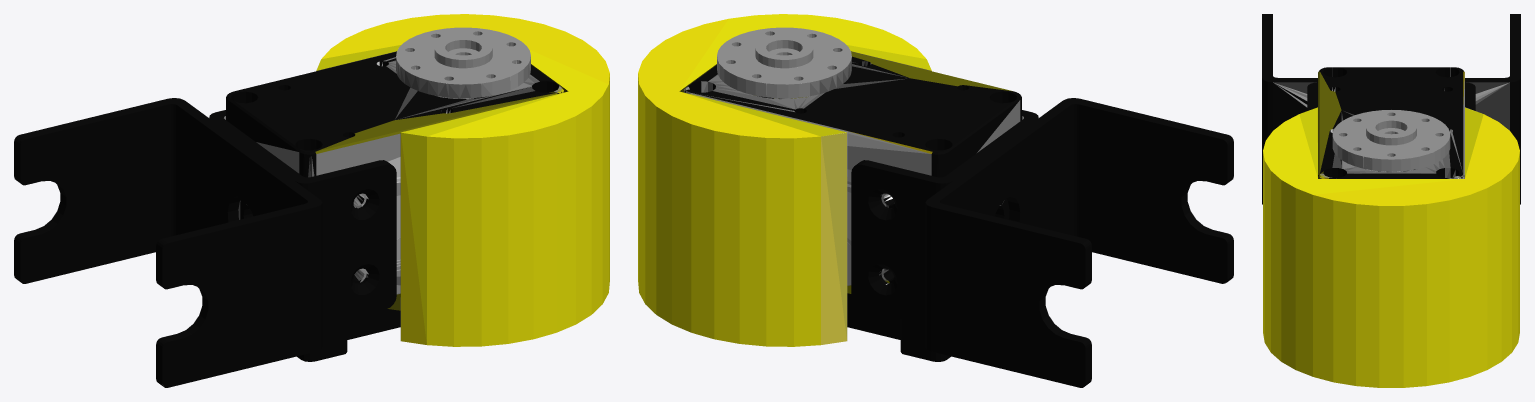
File: HansCuteLink4.dae
3 renders of one model, left to right at view 1: azimuth 30°, elevation 25°; view 2: azimuth 150°, elevation 25°; view 3: azimuth 270°, elevation 25°, orthographic. The views are drawn at different scales.
Parts seen in each view (by area): view 1: HansCuteLink4; view 2: HansCuteLink4; view 3: HansCuteLink4.
Part boxes in pixels (box(x1,y1,x2,y2)): HansCuteLink4: box(14, 14, 609, 387); HansCuteLink4: box(638, 14, 1233, 387); HansCuteLink4: box(1262, 14, 1520, 387).
Size of the model in its own units: 0.0944 by 0.0483 by 0.0458.
